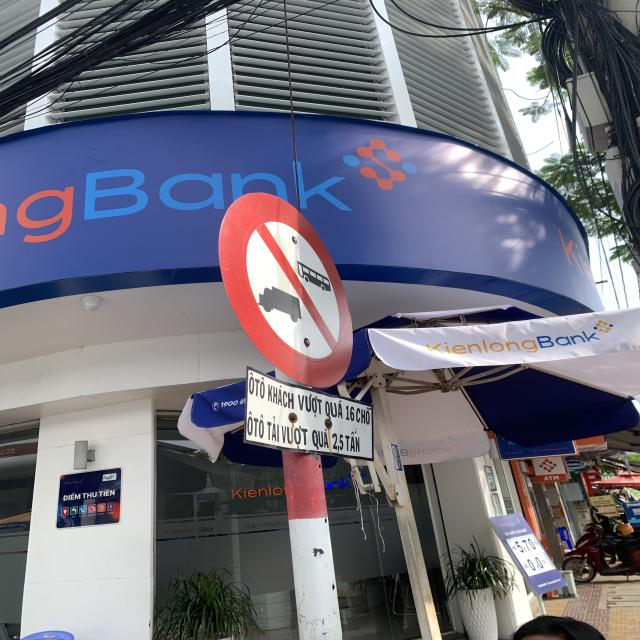Cam_XeTai_XeKhach: (218, 192, 358, 390)
